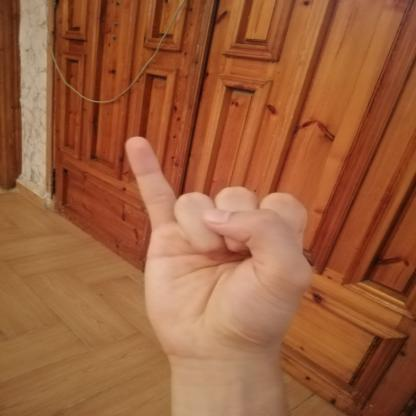MEEM: (86, 123, 346, 371)
